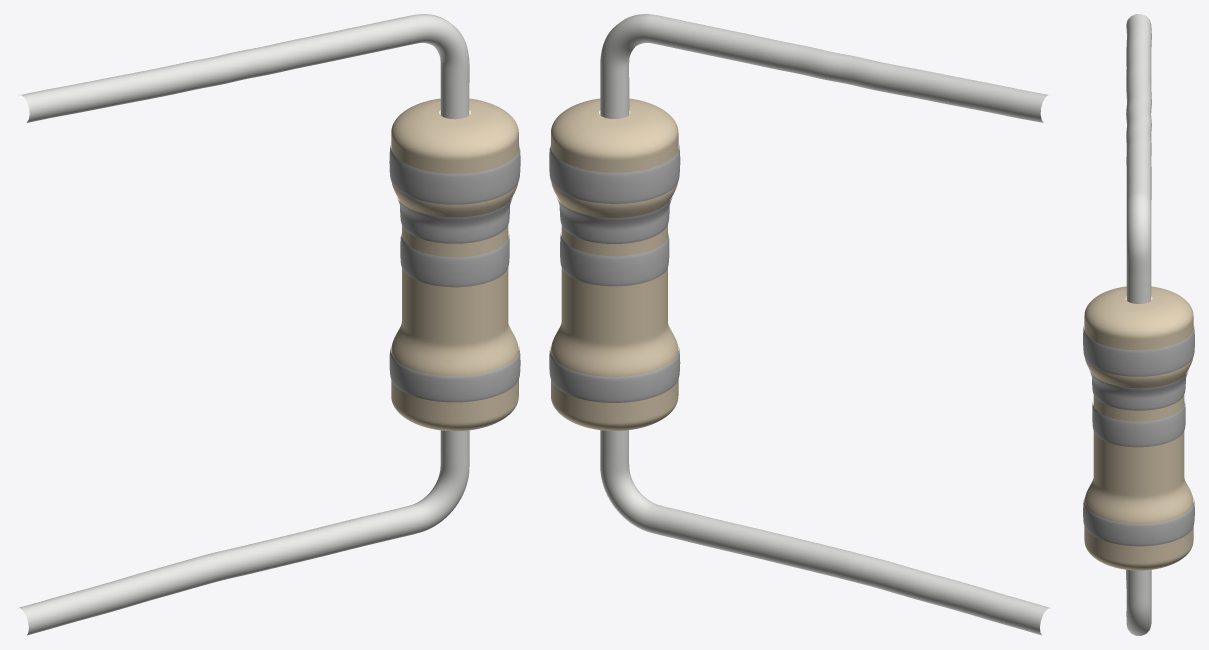
File: resistor.glb
3 renders of one model, left to right at view 1: azimuth 30°, elevation 25°; view 2: azimuth 150°, elevation 25°; view 3: azimuth 270°, elevation 25°, orthographic. The views are drawn at different scales.
Visible parts, largest first — view 1: body, lead_0, lead_1, band_0, band_3, band_2, band_1; view 2: body, lead_0, lead_1, band_0, band_3, band_2, band_1; view 3: body, lead_0, band_0, band_3, band_2, band_1, lead_1.
Boxes of the visible parts, x1=… form: body: x1=391, y1=98, x2=518, y2=431; lead_0: x1=21, y1=14, x2=469, y2=122; lead_1: x1=19, y1=430, x2=469, y2=635; band_0: x1=389, y1=145, x2=520, y2=204; band_3: x1=389, y1=347, x2=520, y2=402; band_2: x1=400, y1=233, x2=509, y2=287; band_1: x1=397, y1=197, x2=512, y2=243; body: x1=551, y1=98, x2=678, y2=430; lead_0: x1=600, y1=14, x2=1048, y2=122; lead_1: x1=600, y1=430, x2=1050, y2=635; band_0: x1=549, y1=145, x2=680, y2=203; band_3: x1=549, y1=347, x2=680, y2=402; band_2: x1=560, y1=233, x2=669, y2=286; band_1: x1=556, y1=197, x2=672, y2=243; body: x1=1084, y1=286, x2=1193, y2=570; lead_0: x1=1126, y1=14, x2=1151, y2=303; band_0: x1=1083, y1=325, x2=1194, y2=376; band_3: x1=1083, y1=499, x2=1194, y2=546; band_2: x1=1092, y1=401, x2=1185, y2=447; band_1: x1=1090, y1=371, x2=1188, y2=410; lead_1: x1=1126, y1=569, x2=1151, y2=635.
Bounding box in the file's own units: 10.65 × 11.17 × 2.46.
